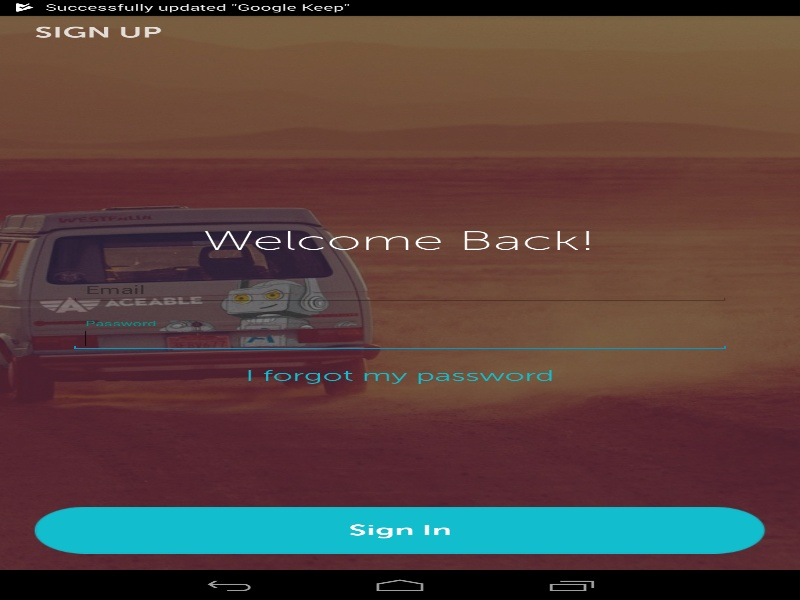Button: (34, 506, 765, 553)
Input: (69, 278, 730, 303), (69, 326, 730, 350)
